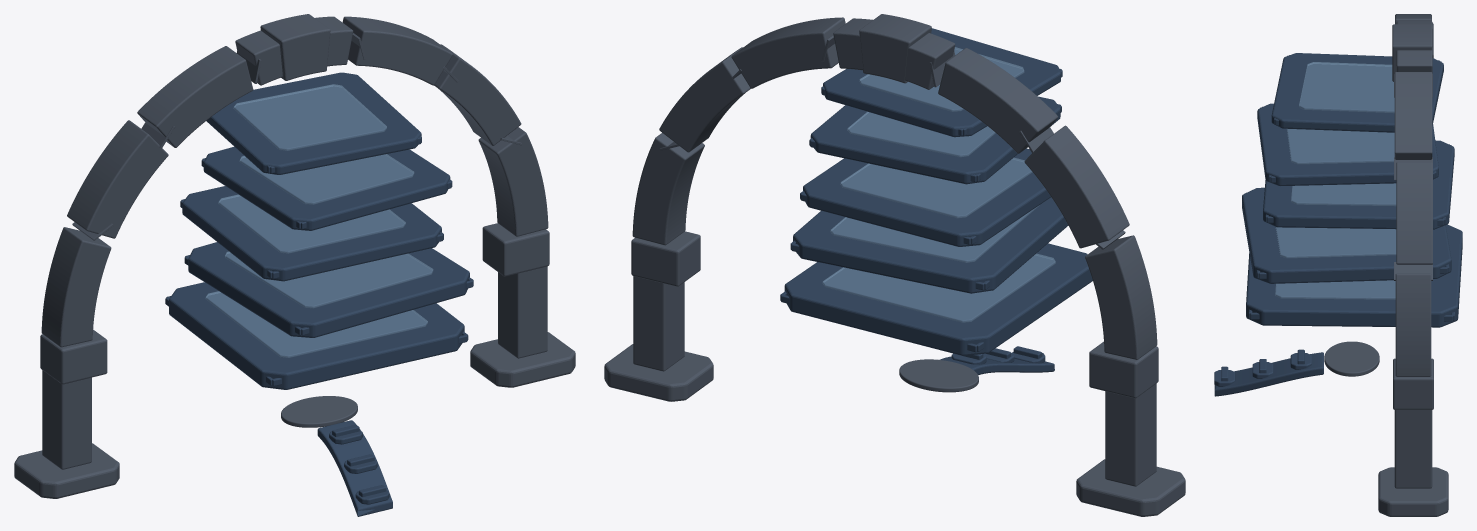
File: hero-delivery-system-A-editorial-light.glb
3 renders of one model, left to right at view 1: azimuth 30°, elevation 25°; view 2: azimuth 150°, elevation 25°; view 3: azimuth 270°, elevation 25°, orthographic. The views are drawn at different scales.
Parts seen in each view (by area): view 1: CMP_Layers_B_05_BasaltCarrier, CMP_Layers_B_04_BasaltCarrier, CMP_Layers_B_01_BasaltCarrier, CMP_Layers_B_03_BasaltCarrier, CMP_Layers_B_02_BasaltCarrier, CMP_Layers_B_01_InsetWindow, CMP_Arch_B_Module_07, CMP_Arch_B_Module_06, CMP_Arch_B_Module_08, CMP_Arch_B_Module_02, CMP_Layers_B_04_InsetWindow, CMP_Arch_B_Module_04 (+14 smaller); view 2: CMP_Layers_B_05_BasaltCarrier, CMP_Layers_B_03_BasaltCarrier, CMP_Layers_B_04_BasaltCarrier, CMP_Layers_B_02_BasaltCarrier, CMP_Layers_B_01_BasaltCarrier, CMP_Arch_B_Module_07, CMP_Arch_B_Module_06, CMP_Arch_B_Module_08, CMP_Layers_B_05_InsetWindow, CMP_Layers_B_03_InsetWindow, CMP_Arch_B_Module_02, CMP_Arch_B_Module_04 (+14 smaller); view 3: CMP_Layers_B_04_BasaltCarrier, CMP_Layers_B_01_BasaltCarrier, CMP_Layers_B_05_BasaltCarrier, CMP_Layers_B_02_BasaltCarrier, CMP_Layers_B_03_BasaltCarrier, CMP_Layers_B_01_InsetWindow, CMP_Arch_B_Module_02, CMP_Arch_B_Module_03, CMP_Layers_B_02_InsetWindow, CMP_Arch_B_Module_04, CMP_Layers_B_04_InsetWindow, CMP_Arch_B_Module_09_RightLeg (+9 smaller).
Part boxes in pixels (x1,y1,x2,y2): CMP_Layers_B_05_BasaltCarrier: (169,282,464,389); CMP_Layers_B_04_BasaltCarrier: (188,242,469,337); CMP_Layers_B_01_BasaltCarrier: (206,72,421,174); CMP_Layers_B_03_BasaltCarrier: (182,186,441,281); CMP_Layers_B_02_BasaltCarrier: (203,146,450,230); CMP_Layers_B_01_InsetWindow: (233,84,386,150); CMP_Arch_B_Module_07: (67,120,168,238); CMP_Arch_B_Module_06: (137,46,253,147); CMP_Arch_B_Module_08: (41,227,111,347); CMP_Arch_B_Module_02: (478,127,548,236); CMP_Layers_B_04_InsetWindow: (225,251,433,307); CMP_Arch_B_Module_04: (342,16,452,85); CMP_Layers_B_05_BasaltCarrier: (784,243,1092,355); CMP_Layers_B_03_BasaltCarrier: (803,148,1050,246); CMP_Layers_B_04_BasaltCarrier: (793,197,1068,293); CMP_Layers_B_02_BasaltCarrier: (810,96,1060,184); CMP_Layers_B_01_BasaltCarrier: (823,28,1060,137); CMP_Arch_B_Module_07: (1024,125,1129,248); CMP_Arch_B_Module_06: (938,48,1058,153); CMP_Arch_B_Module_08: (1085,235,1157,359); CMP_Layers_B_05_InsetWindow: (822,253,1055,322); CMP_Layers_B_03_InsetWindow: (840,157,1032,217); CMP_Arch_B_Module_02: (632,133,704,245); CMP_Arch_B_Module_04: (731,17,845,88); CMP_Layers_B_04_BasaltCarrier: (1242,187,1451,283); CMP_Layers_B_01_BasaltCarrier: (1271,53,1443,132); CMP_Layers_B_05_BasaltCarrier: (1246,224,1462,327); CMP_Layers_B_02_BasaltCarrier: (1257,103,1438,185); CMP_Layers_B_03_BasaltCarrier: (1263,140,1454,229); CMP_Layers_B_01_InsetWindow: (1299,62,1394,112); CMP_Arch_B_Module_02: (1395,273,1431,376); CMP_Arch_B_Module_03: (1396,162,1432,264); CMP_Layers_B_02_InsetWindow: (1287,129,1394,163); CMP_Arch_B_Module_04: (1394,72,1432,159); CMP_Layers_B_04_InsetWindow: (1275,227,1395,257); CMP_Arch_B_Module_09_RightLeg: (1394,410,1432,488).
Bounding box in the file's own units: 11.8 × 8.45 × 5.18.
